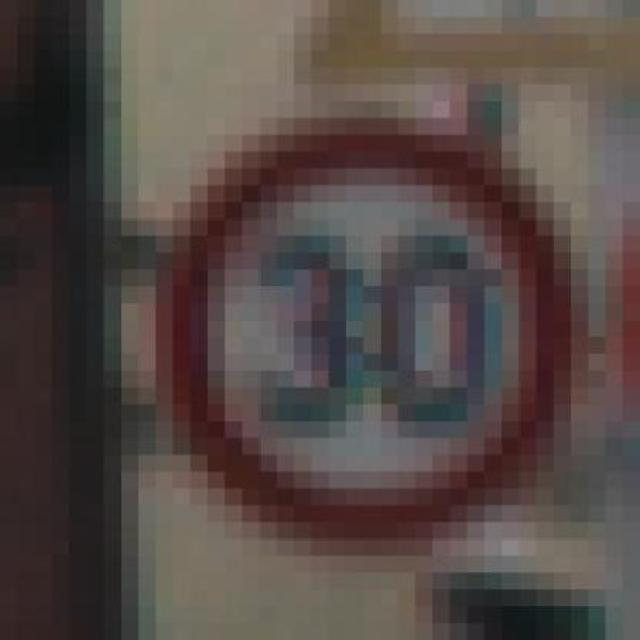Speed Limit 30 KMPh: (121, 118, 588, 539)
